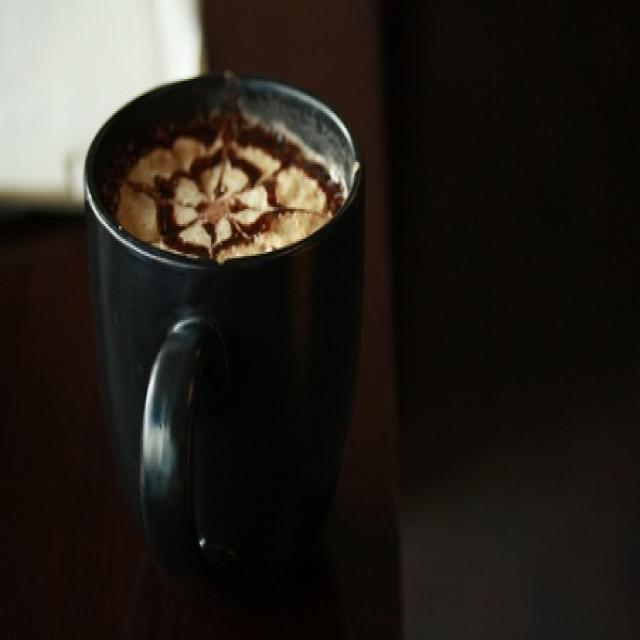Cup: (78, 40, 377, 606)
